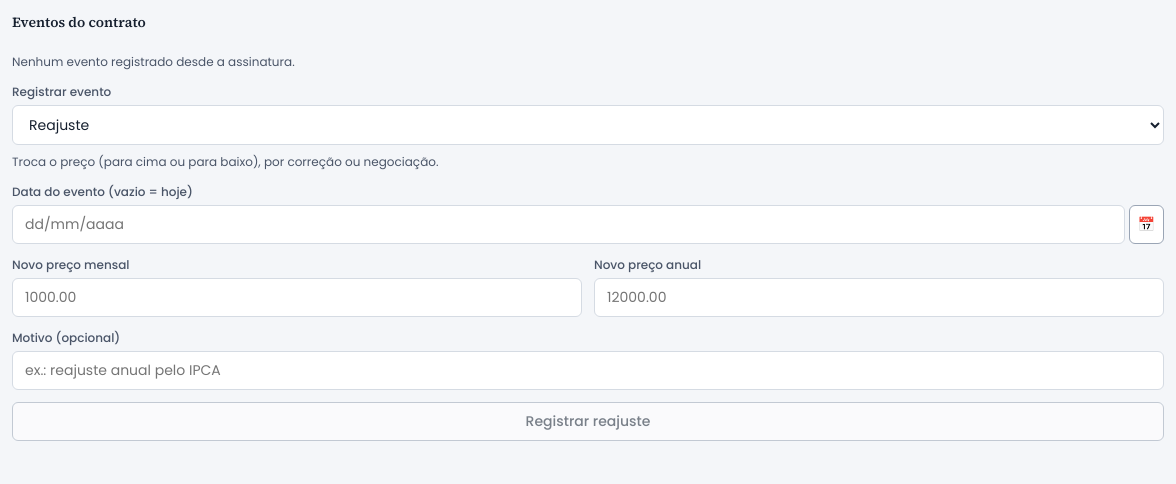
Scenario: EventosDeContrato › renovação pede a nova data de fim
Select "Renovação" in the dropdown labelled "Registrar evento" at (588, 125), box [12,105,1164,145]
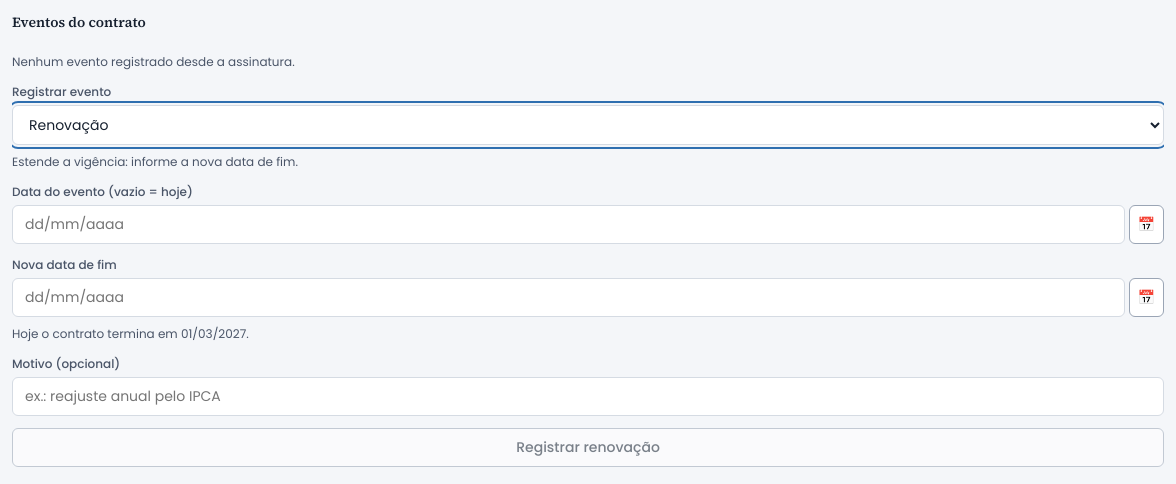
Expected: the button "Registrar renovação" is disabled, [12,428,1164,467]
Expected: the text "Hoje o contrato termina em 01/03/2027." is shown, [12,325,249,342]
